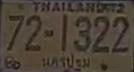1: (61, 14, 67, 51)
2: (24, 14, 42, 50), (92, 15, 109, 52), (112, 16, 128, 52)
3: (73, 16, 91, 51)
7: (6, 14, 24, 50)
NPT: (41, 52, 90, 71)
